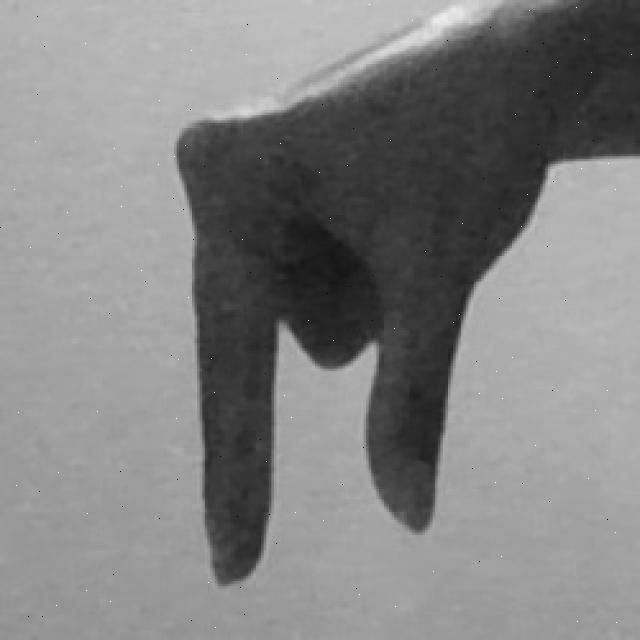Q: (164, 0, 556, 594)
